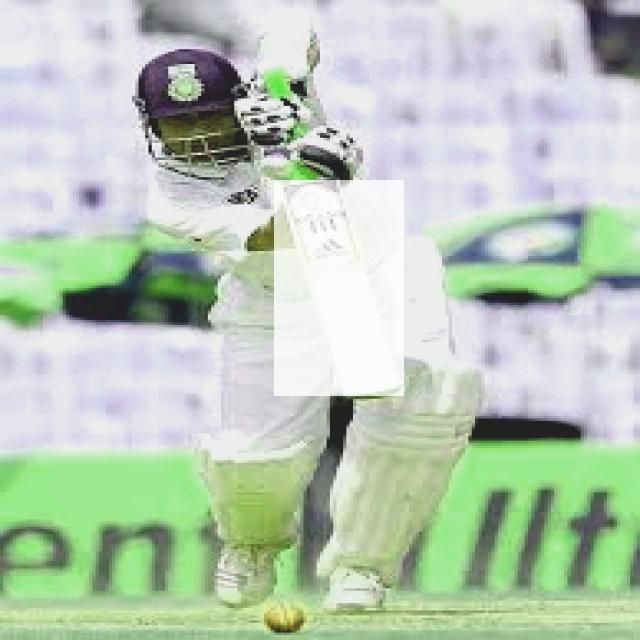bat: (274, 180, 404, 398)
toe: (339, 383, 400, 396)
